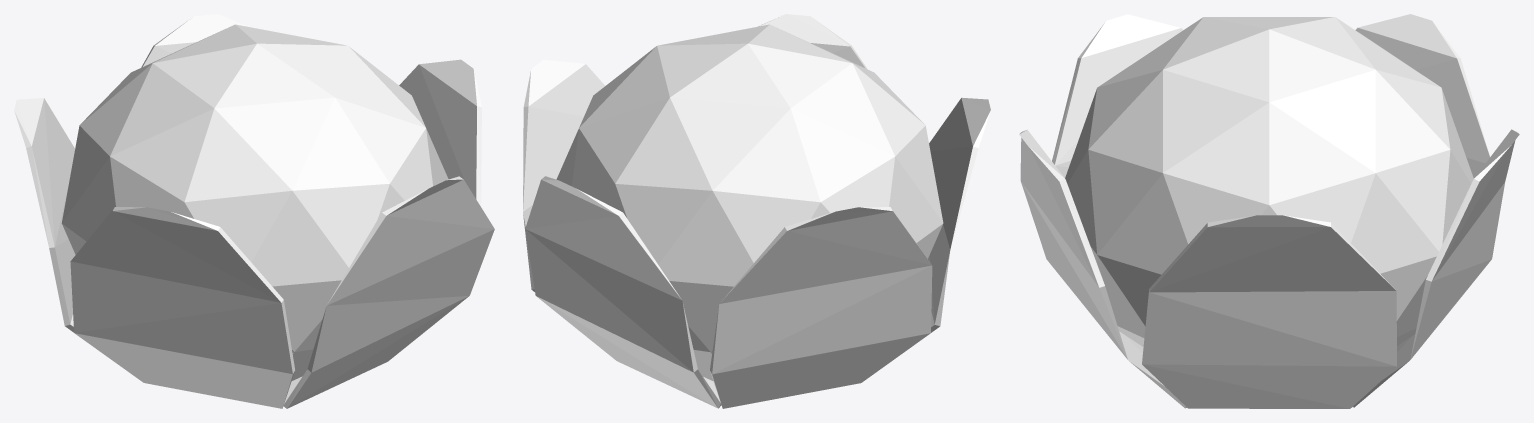
The model's file is Crop_Cauliflower_01.glb.
3 renders of one model, left to right at view 1: azimuth 30°, elevation 25°; view 2: azimuth 150°, elevation 25°; view 3: azimuth 270°, elevation 25°, orthographic. The views are drawn at different scales.
Parts seen in each view (by area): view 1: Crop_Cauliflower_01; view 2: Crop_Cauliflower_01; view 3: Crop_Cauliflower_01.
Boxes of the visible parts, x1,y1,x2,y2 form: Crop_Cauliflower_01: (14,14,494,408); Crop_Cauliflower_01: (523,14,990,408); Crop_Cauliflower_01: (1019,14,1519,408).
Size of the model in its own units: 0.3172 by 0.2486 by 0.3175.
1 material, 1 textured.
